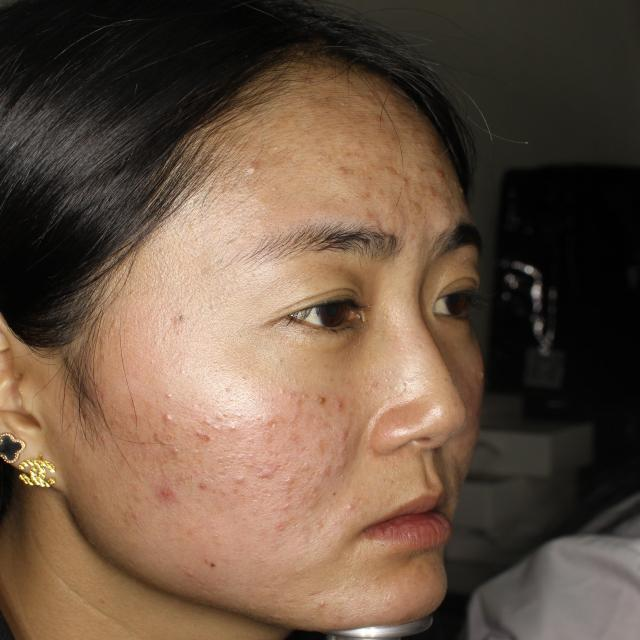Acne: (302, 359, 407, 436), (132, 467, 219, 519), (320, 459, 365, 523), (155, 409, 224, 449), (389, 163, 447, 208), (224, 378, 304, 408), (264, 506, 310, 550), (242, 456, 288, 492), (356, 186, 389, 228), (314, 577, 351, 613), (245, 410, 295, 434), (315, 90, 355, 119), (185, 556, 222, 586), (381, 114, 413, 148), (243, 147, 268, 190), (326, 160, 356, 192), (162, 302, 190, 334), (147, 380, 179, 400), (292, 66, 320, 84), (476, 365, 490, 392)
